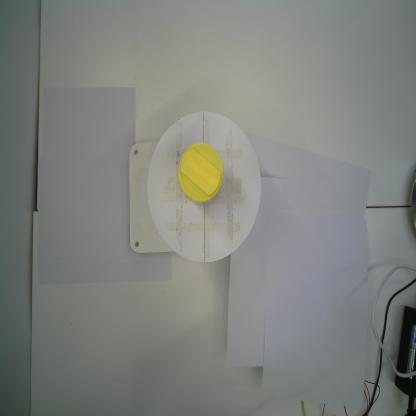Canned Food: (178, 141, 225, 204)
